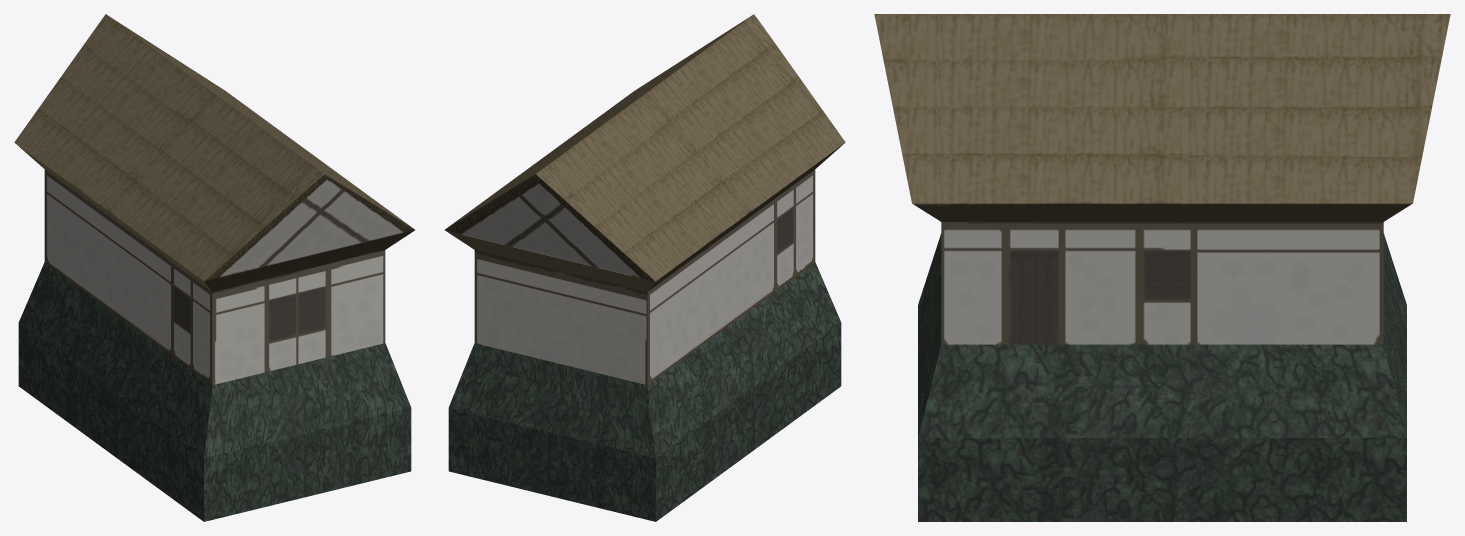
File: house_1_4.dae
3 renders of one model, left to right at view 1: azimuth 30°, elevation 25°; view 2: azimuth 150°, elevation 25°; view 3: azimuth 270°, elevation 25°, orthographic. The views are drawn at different scales.
Parts seen in each view (by area): view 1: Cube; view 2: Cube; view 3: Cube.
Boxes of the visible parts, x1=… form: Cube: x1=14, y1=14, x2=414, y2=521; Cube: x1=445, y1=14, x2=845, y2=521; Cube: x1=874, y1=14, x2=1450, y2=521.
Bounding box in the file's own units: 0.1253 × 0.2246 × 0.1897.
1 material, 1 textured.
